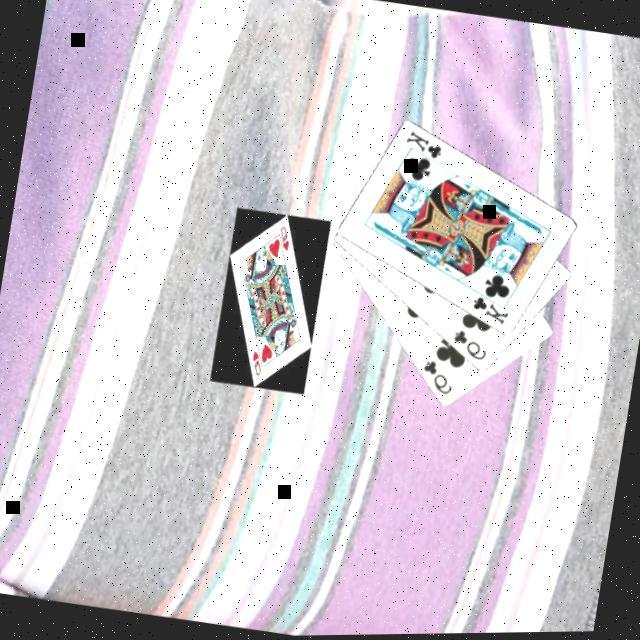6C: (415, 355, 458, 399), (447, 325, 492, 366)
KC: (466, 286, 514, 330), (399, 126, 447, 169)
